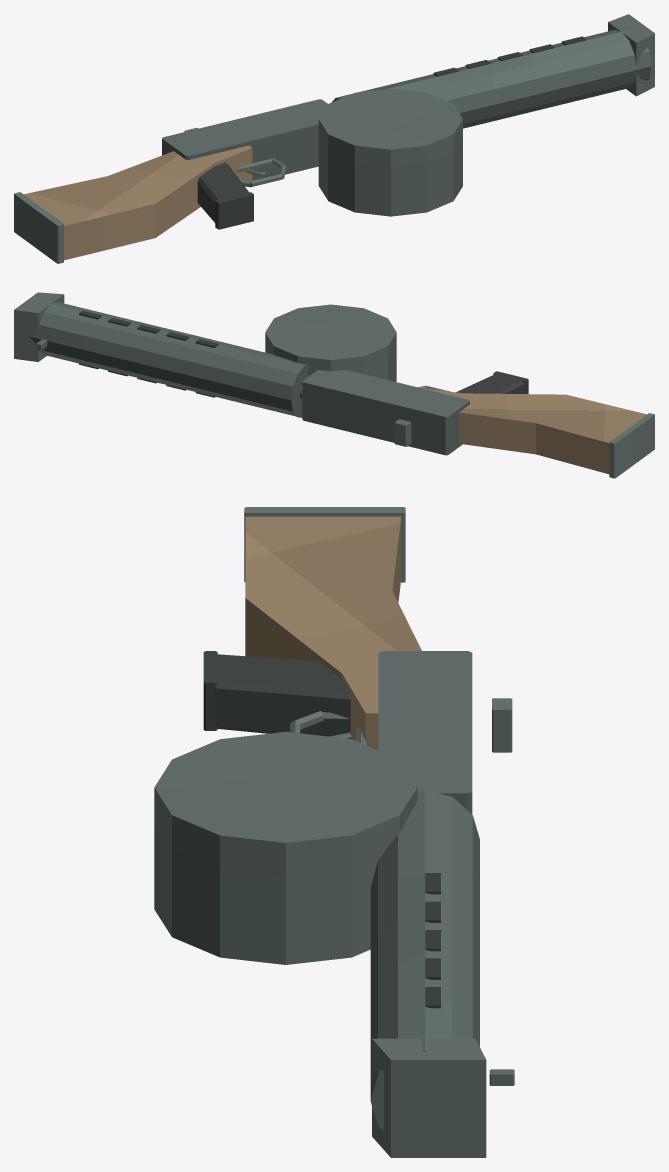
The model's file is weapon-ppsh.glb.
The picture shows the model from 3 angles, top to bottom: view 1: azimuth 30°, elevation 25°; view 2: azimuth 150°, elevation 25°; view 3: azimuth 270°, elevation 25°; orthographic projection. The views are drawn at different scales.
Visible parts, largest first — view 1: weapon-ppsh/drum, weapon-ppsh/long-barrel-shroud, weapon-ppsh/shaped-solid-butt, weapon-ppsh/full-depth-receiver, weapon-ppsh/butt-end-plate, weapon-ppsh/distinct-eight-sided-pistol-grip, weapon-ppsh/slanted-shroud-mouth, weapon-ppsh/distinct-eight-sided-pistol-grip-heel; view 2: weapon-ppsh/long-barrel-shroud, weapon-ppsh/shaped-solid-butt, weapon-ppsh/full-depth-receiver, weapon-ppsh/drum, weapon-ppsh/butt-end-plate, weapon-ppsh/slanted-shroud-mouth, weapon-ppsh/distinct-eight-sided-pistol-grip, weapon-ppsh/rear-sight; view 3: weapon-ppsh/drum, weapon-ppsh/shaped-solid-butt, weapon-ppsh/long-barrel-shroud, weapon-ppsh/slanted-shroud-mouth, weapon-ppsh/full-depth-receiver, weapon-ppsh/distinct-eight-sided-pistol-grip, weapon-ppsh/butt-end-plate, weapon-ppsh/rear-sight.
Part boxes in pixels (x1,y1,x2,y2): weapon-ppsh/drum: (318,88,462,216); weapon-ppsh/long-barrel-shroud: (331,28,651,128); weapon-ppsh/shaped-solid-butt: (24,145,252,260); weapon-ppsh/full-depth-receiver: (162,99,327,180); weapon-ppsh/butt-end-plate: (14,192,63,263); weapon-ppsh/distinct-eight-sided-pistol-grip: (197,162,248,222); weapon-ppsh/slanted-shroud-mouth: (608,14,654,96); weapon-ppsh/distinct-eight-sided-pistol-grip-heel: (215,192,253,229); weapon-ppsh/long-barrel-shroud: (28,300,307,416); weapon-ppsh/shaped-solid-butt: (422,388,646,474); weapon-ppsh/full-depth-receiver: (302,369,469,455); weapon-ppsh/drum: (265,304,396,417); weapon-ppsh/butt-end-plate: (609,413,654,478); weapon-ppsh/slanted-shroud-mouth: (14,292,64,361); weapon-ppsh/distinct-eight-sided-pistol-grip: (456,373,524,393); weapon-ppsh/rear-sight: (394,419,411,446); weapon-ppsh/drum: (154,731,417,964); weapon-ppsh/shaped-solid-butt: (245,516,421,749); weapon-ppsh/long-barrel-shroud: (370,790,479,1130); weapon-ppsh/slanted-shroud-mouth: (372,1038,486,1157); weapon-ppsh/full-depth-receiver: (378,651,472,814); weapon-ppsh/distinct-eight-sided-pistol-grip: (210,654,350,736); weapon-ppsh/butt-end-plate: (244,507,405,582); weapon-ppsh/rear-sight: (492,698,512,752).
Bounding box in the file's own units: 0.8565 × 0.086 × 0.23.
3 materials, 3 textured.
